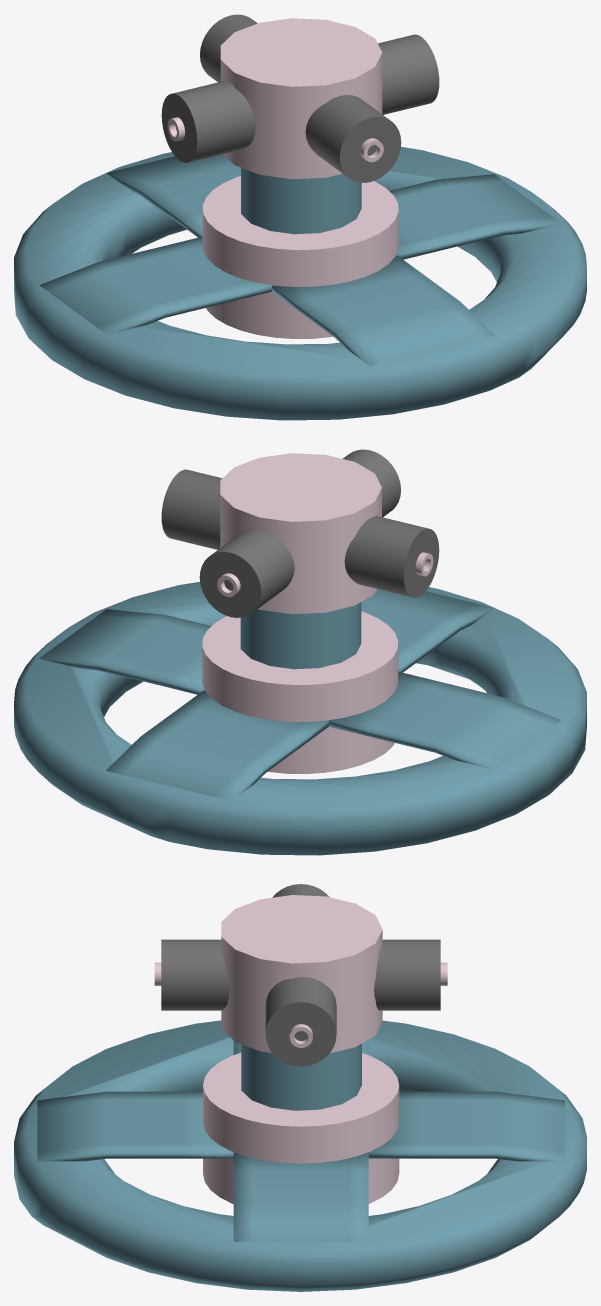
The model's file is sprinkler1.fbx.
3 renders of one model, top to bottom at view 1: azimuth 30°, elevation 25°; view 2: azimuth 150°, elevation 25°; view 3: azimuth 270°, elevation 25°, orthographic.
Parts seen in each view (by area): view 1: Circle; view 2: Circle; view 3: Circle.
Part boxes in pixels (x1,y1,x2,y2): Circle: [14, 14, 586, 420]; Circle: [14, 449, 586, 855]; Circle: [14, 884, 586, 1291].
Size of the model in its own units: 200 by 94.76 by 200.
